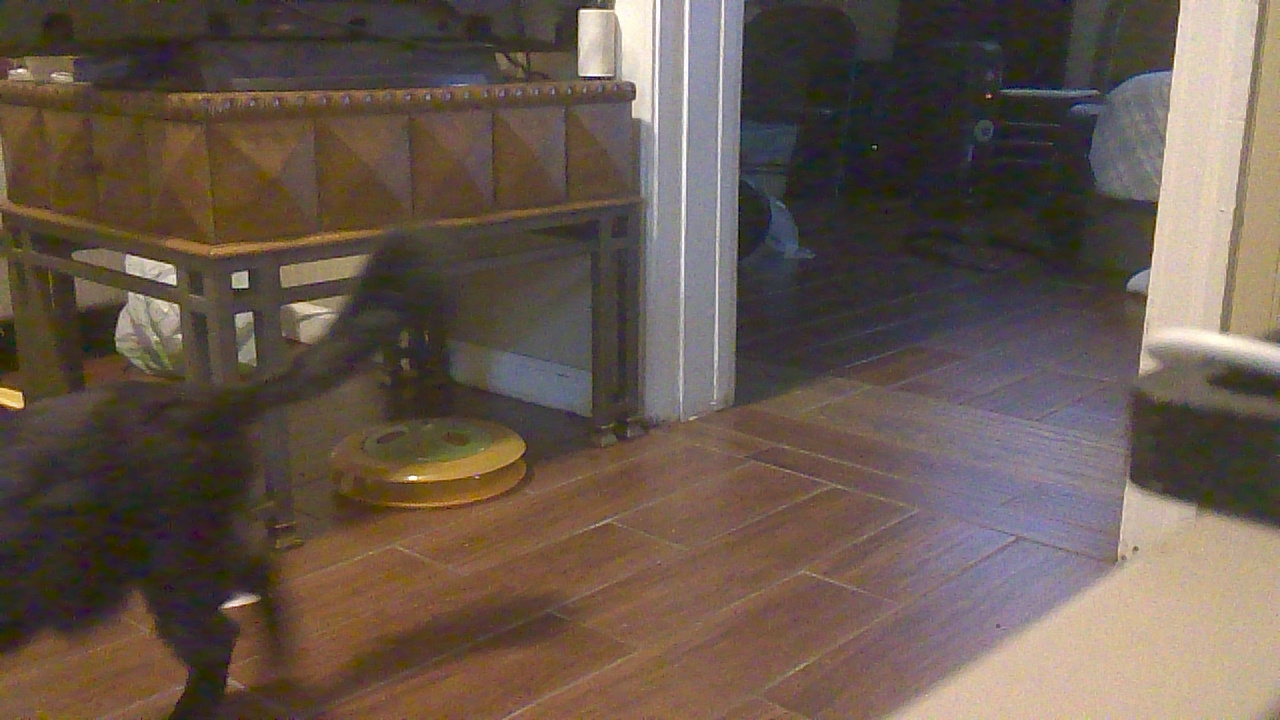cat: (7, 223, 465, 720)
